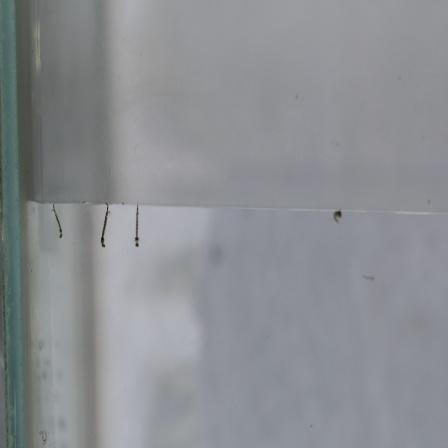Jentik-Nyamuk: (128, 203, 146, 251), (97, 200, 112, 250), (48, 202, 66, 241), (330, 207, 345, 227)
